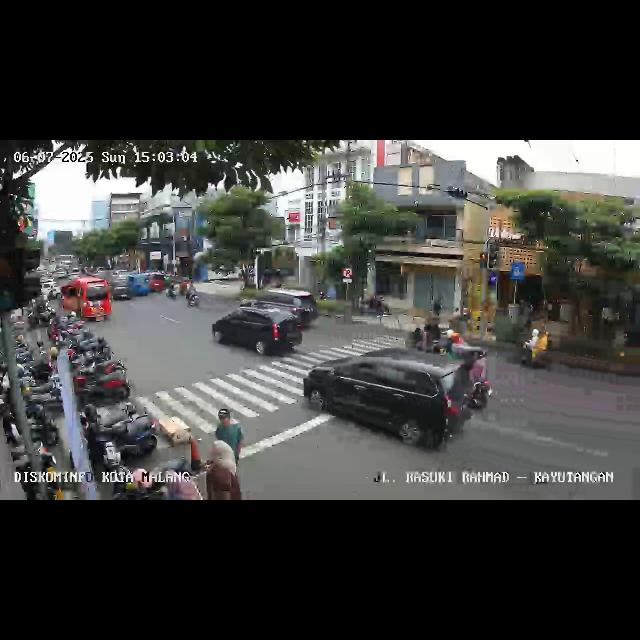car: (301, 352, 461, 452), (212, 306, 306, 362), (238, 287, 320, 331), (59, 276, 111, 324), (128, 274, 150, 298), (112, 277, 130, 303), (148, 272, 166, 294)
motorcycle: (446, 348, 492, 412), (411, 312, 457, 358), (514, 323, 550, 372), (185, 282, 199, 310), (166, 277, 178, 299)
person: (210, 408, 244, 474), (205, 440, 241, 500)
